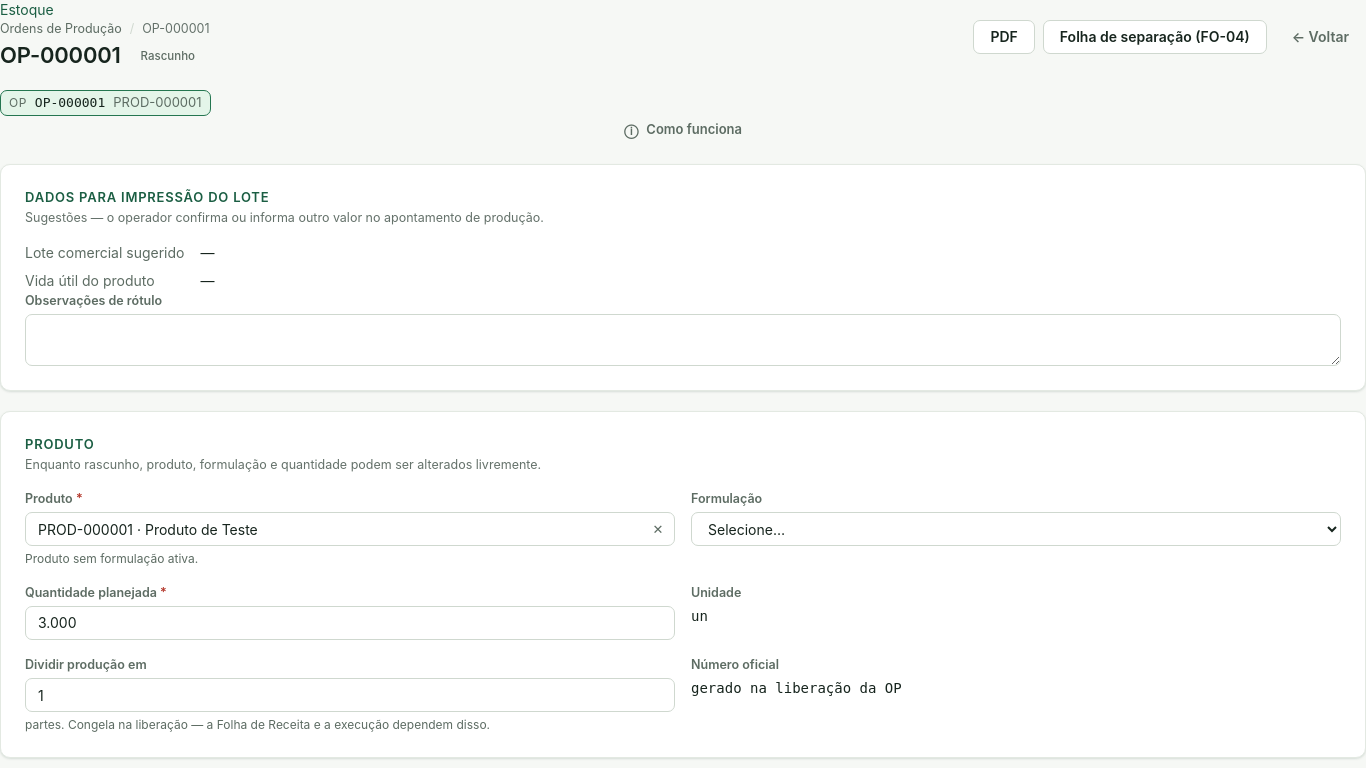
OP gravada — guarda de alterações não salvas › mudar a quantidade com planejamento aplicado dá UMA pergunta, não duas
The width and height of the screenshot is (1366, 768).
Expected: the heading "OP-000001" is shown, [0, 42, 121, 70]
Replace the text in the field with id "op-quantity" with "4000": (350, 623) [25, 606, 675, 640]
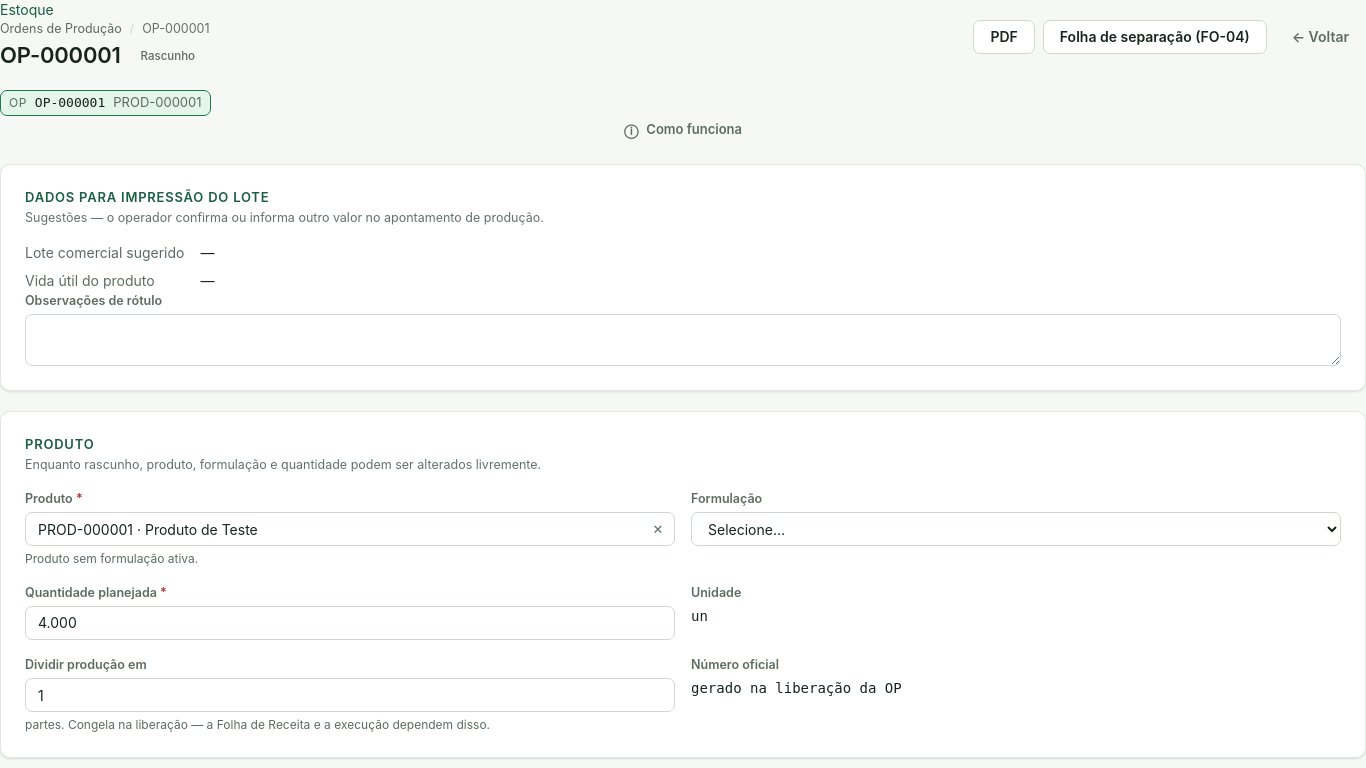
Click the link "Estoque": click(27, 10) [0, 1, 54, 18]
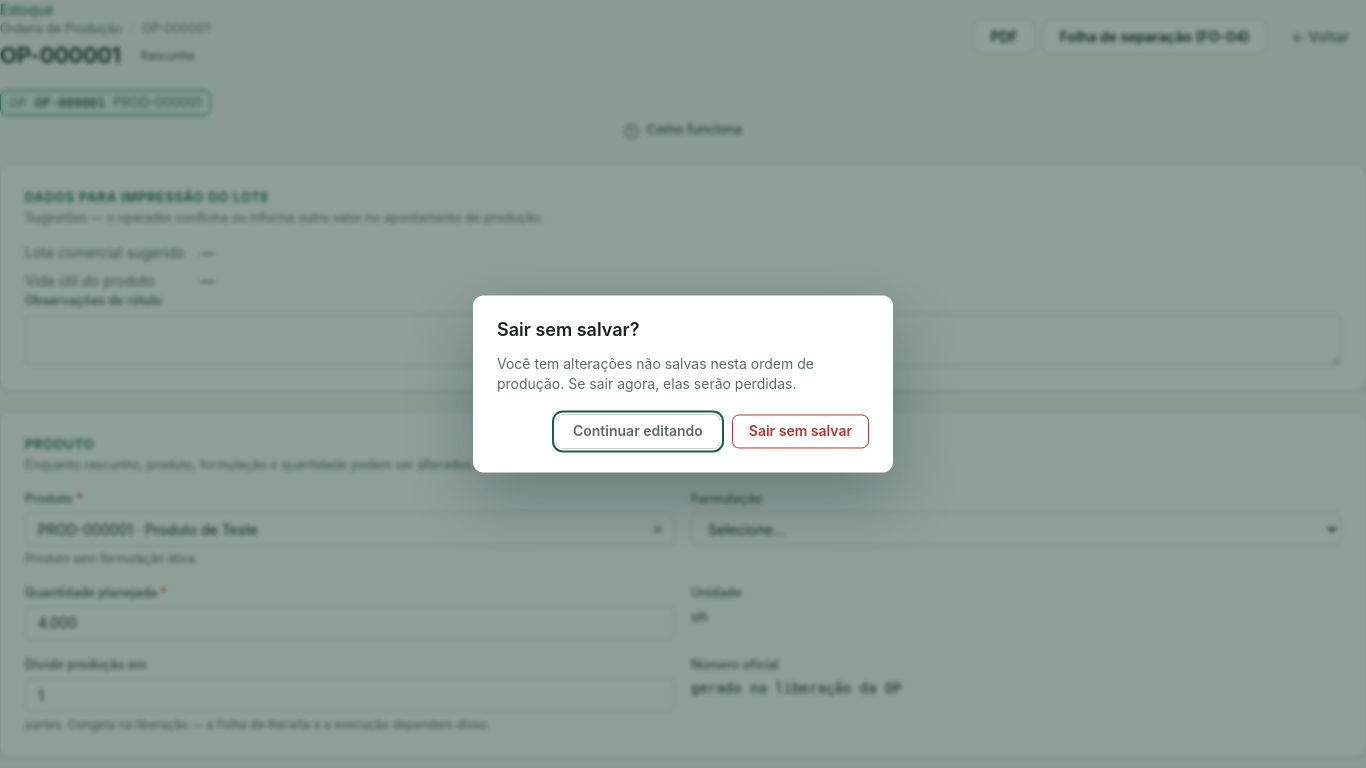
Expected: the number of headings "Sair sem salvar?" is 1, [497, 320, 640, 340]
